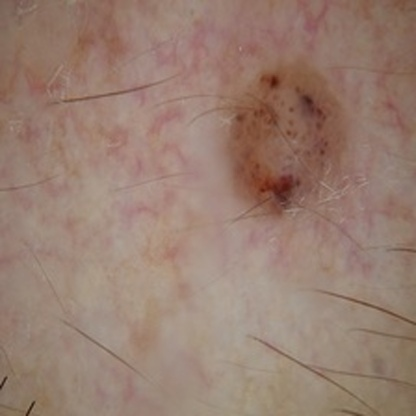malignant: (227, 66, 326, 204)
